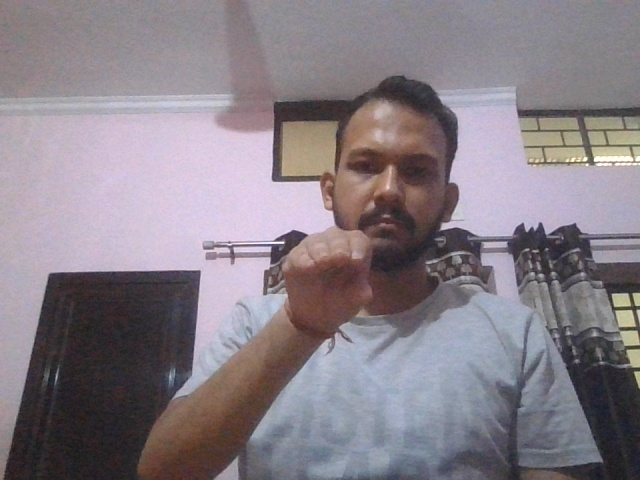no: (283, 227, 373, 331)
